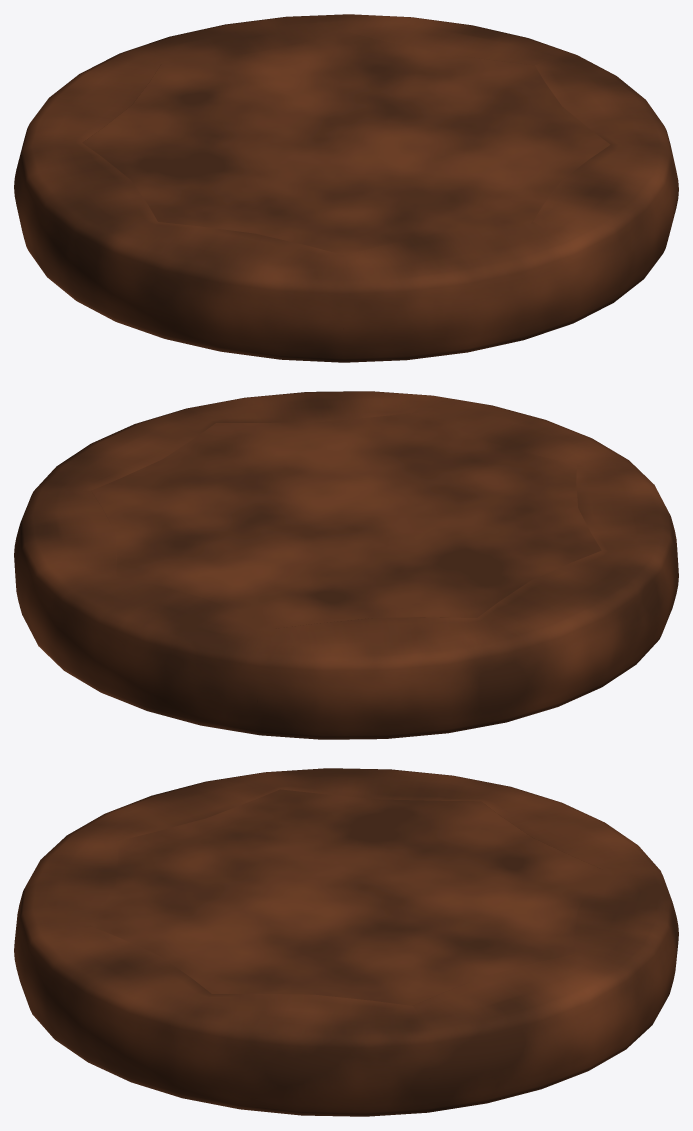
File: meat-pie.glb
3 views of the same model, one above another, from view 1: azimuth 30°, elevation 25°; view 2: azimuth 150°, elevation 25°; view 3: azimuth 270°, elevation 25° (orthographic).
Visible parts, largest first — view 1: meat; view 2: meat; view 3: meat.
Part boxes in pixels (x1,y1,x2,y2): meat: [14, 14, 678, 362]; meat: [14, 391, 678, 739]; meat: [14, 768, 678, 1116].
Bounding box in the file's own units: 0.8902 × 0.1392 × 0.8902.
Materials: 1 (1 with a texture image).
